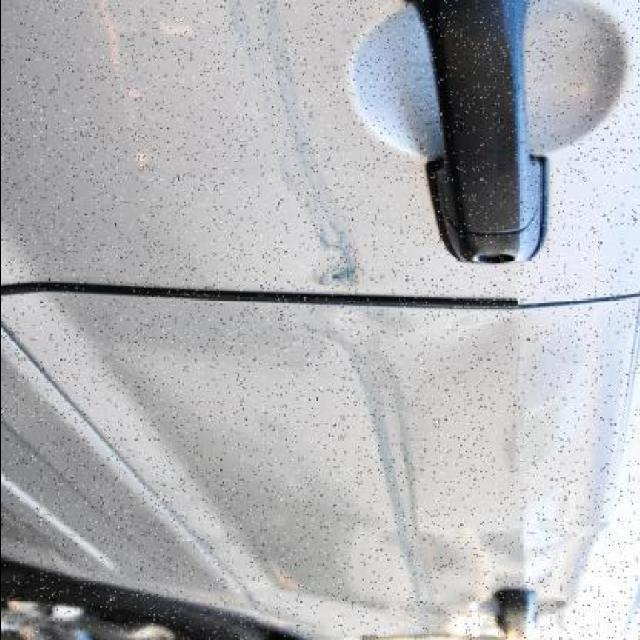doorouter-dent: (0, 299, 637, 640), (0, 0, 634, 300)
